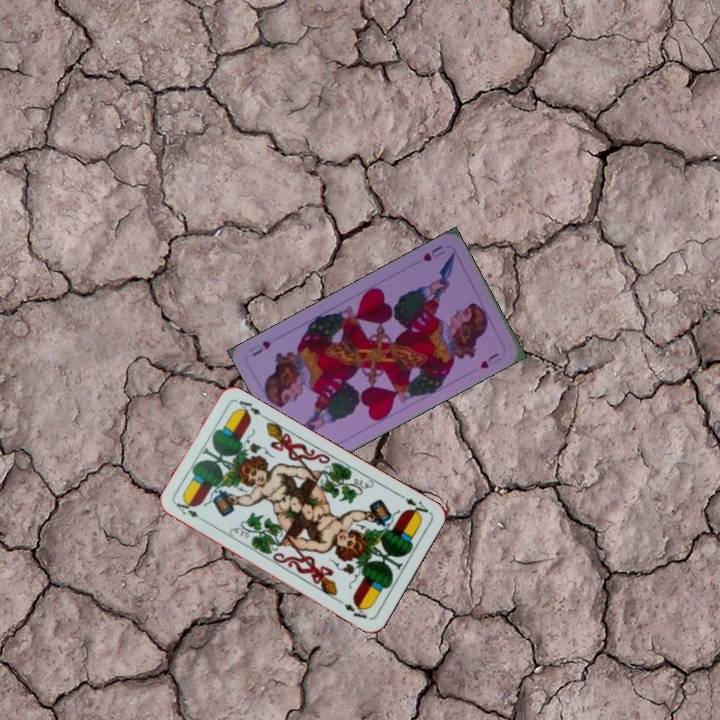EA: (395, 490, 431, 519), (172, 499, 209, 526)
HU: (419, 242, 447, 264)
